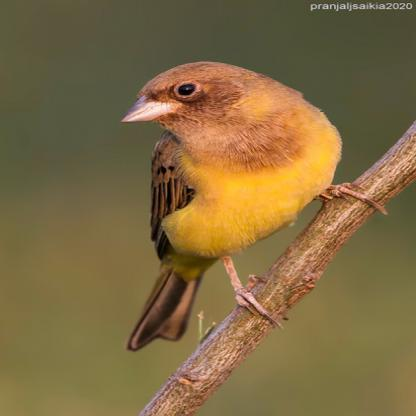Burung: (124, 60, 351, 355)
